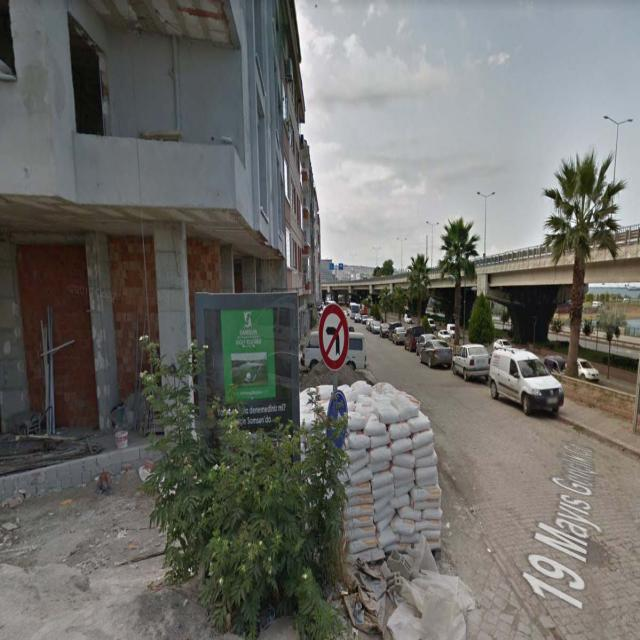soladonulmez: (319, 301, 350, 370)
